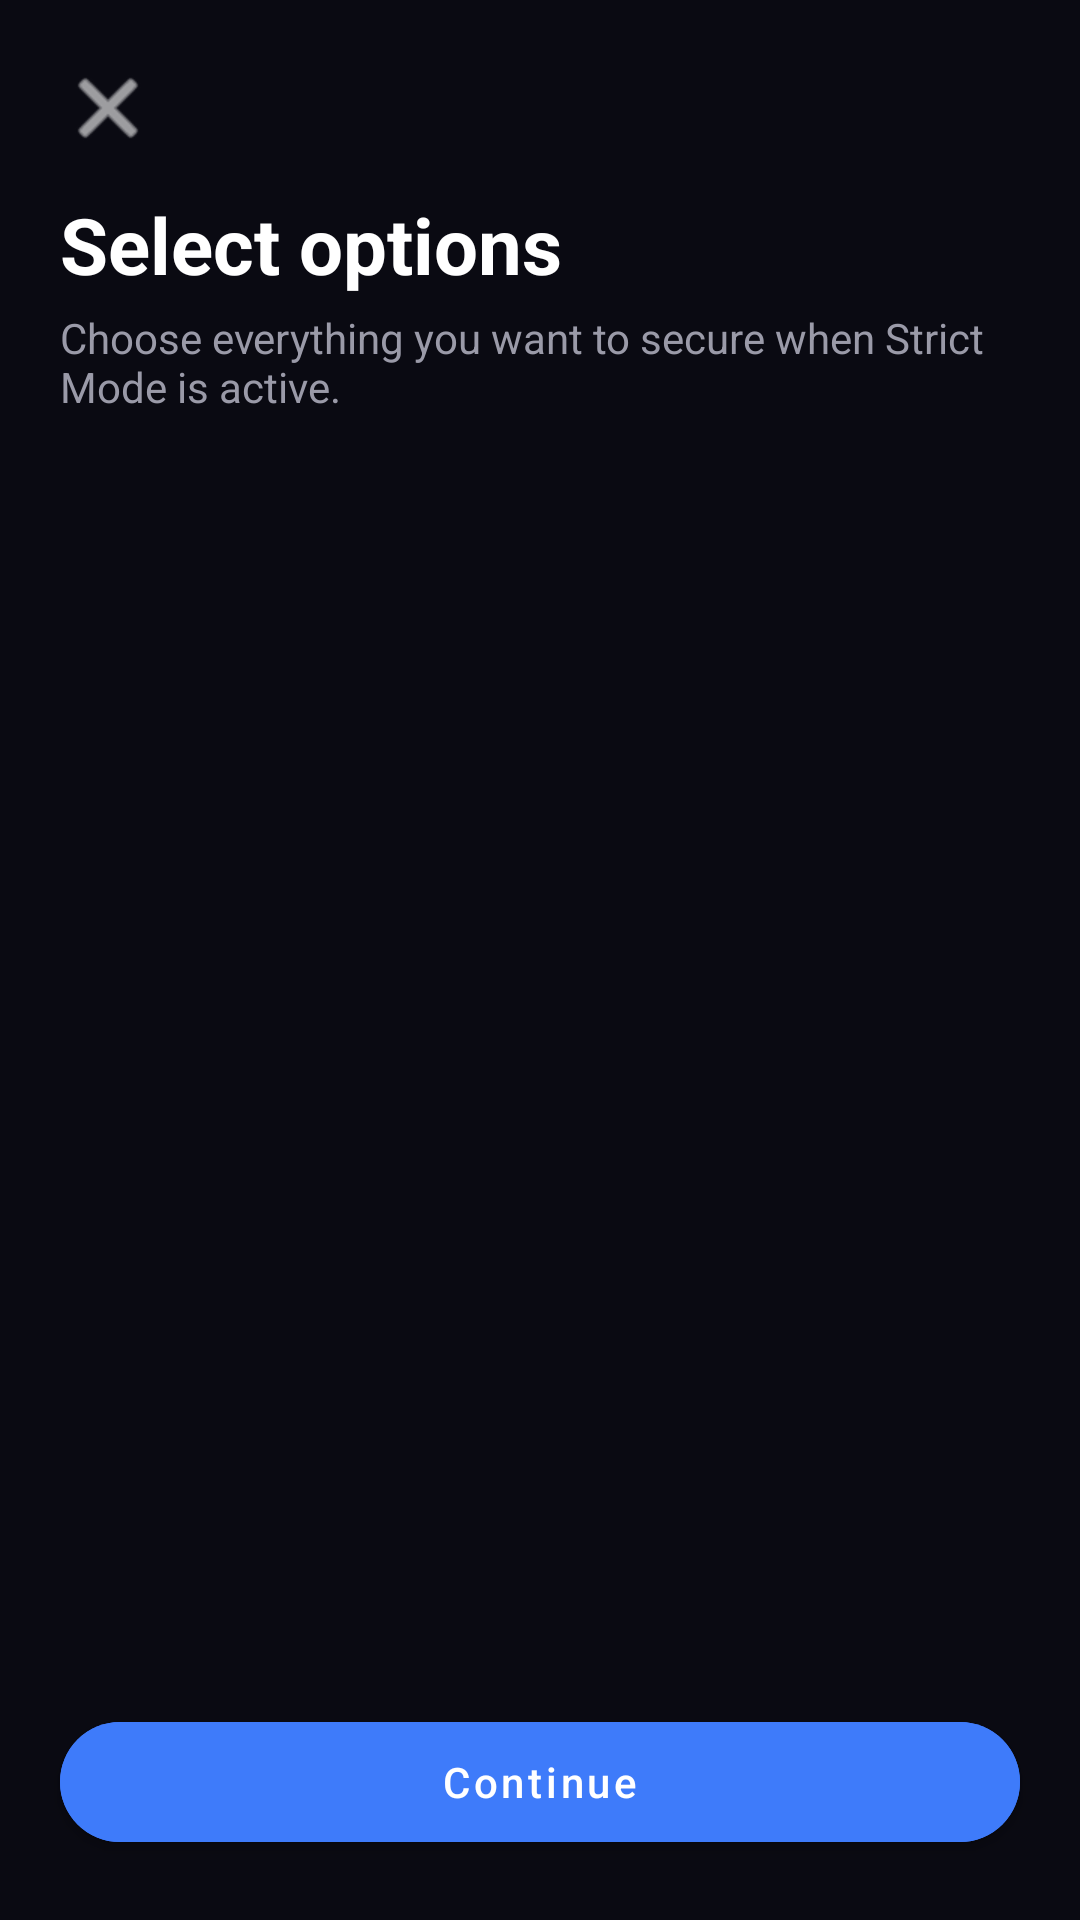

Screen size 1080w x 1920h. Icon name, then its center in pixels as point (x, y):
Close: point (108, 108)
